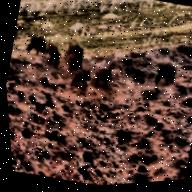boar: (146, 55, 183, 96), (45, 36, 69, 69), (25, 31, 51, 60), (96, 58, 118, 91), (73, 61, 96, 91), (65, 50, 86, 69), (71, 41, 90, 61)
